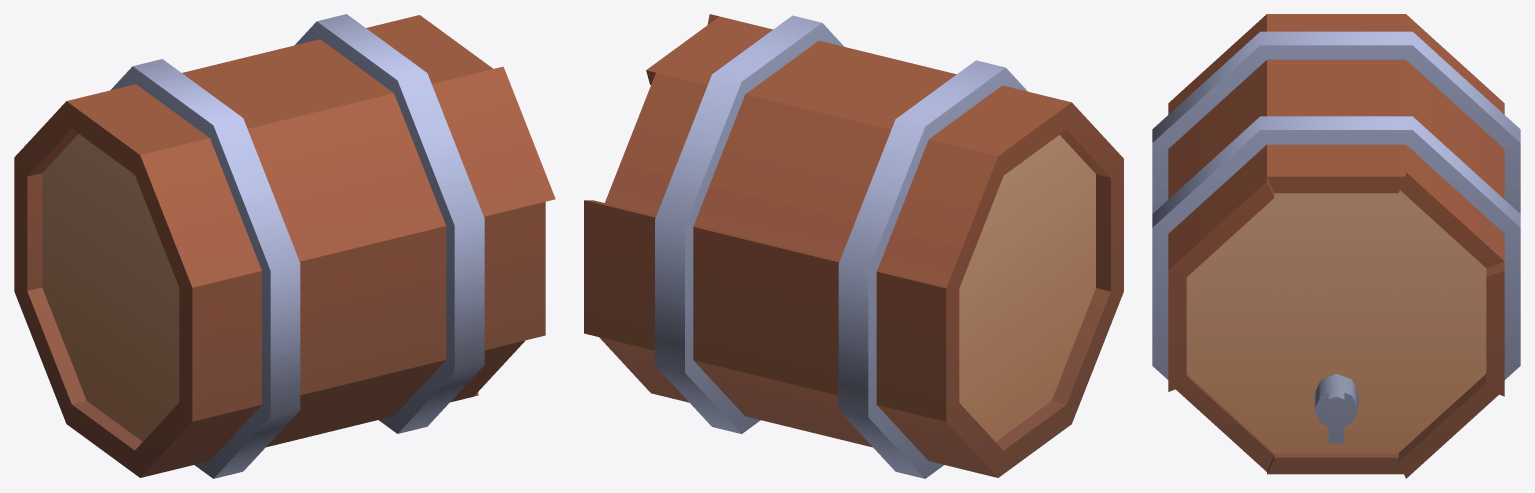
Rendered from barrel.glb.
The picture shows the model from 3 angles, left to right: view 1: azimuth 30°, elevation 25°; view 2: azimuth 150°, elevation 25°; view 3: azimuth 270°, elevation 25°; orthographic projection. The views are drawn at different scales.
Parts seen in each view (by area): view 1: barrel; view 2: barrel; view 3: barrel.
Part boxes in pixels (box(x1,y1,x2,y2)): barrel: box(14, 14, 555, 478); barrel: box(584, 14, 1123, 478); barrel: box(1152, 14, 1520, 478).
Size of the model in its own units: 0.76 by 0.6789 by 0.6789.
Materials: 1 (1 with a texture image).
